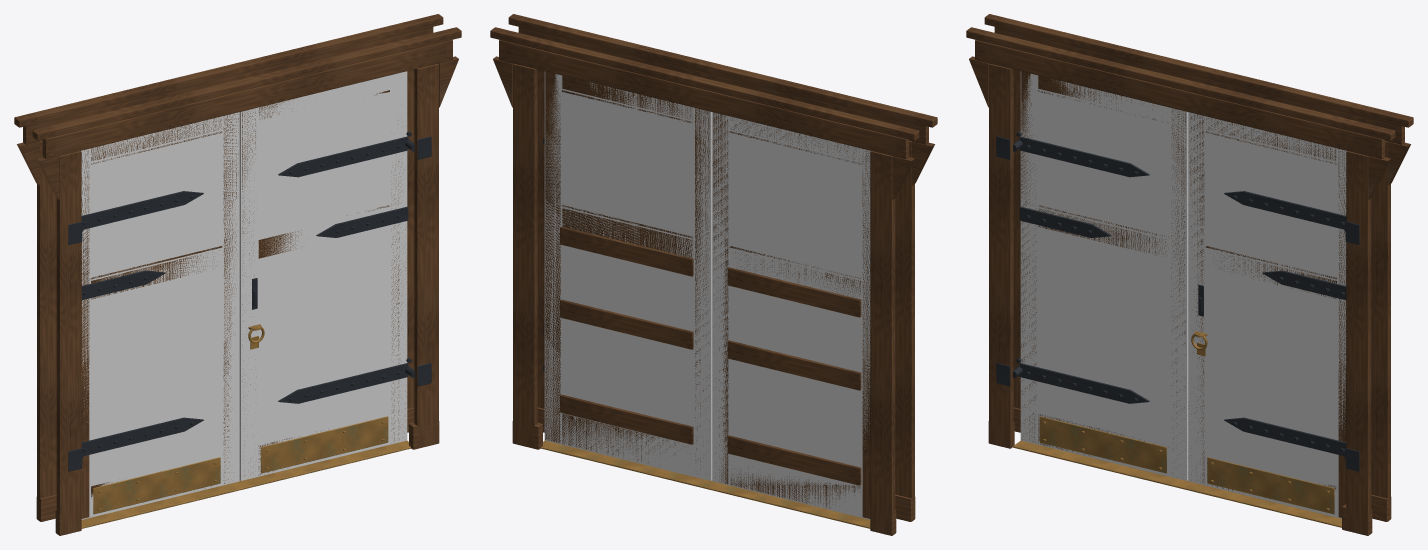
File: settlement_inn_door_main.gltf
The picture shows the model from 3 angles, left to right: view 1: azimuth 30°, elevation 25°; view 2: azimuth 150°, elevation 25°; view 3: azimuth 330°, elevation 25°; orthographic projection.
Visible parts, largest first — view 1: settlement_inn_door_main_leaf_r_col, settlement_inn_door_main_LOD0, settlement_inn_door_main_leaf_l_col, settlement_inn_door_main_leaf_l_LOD0, settlement_inn_door_main_leaf_r_LOD0; view 2: settlement_inn_door_main_LOD0, settlement_inn_door_main_leaf_r_col, settlement_inn_door_main_leaf_l_col, settlement_inn_door_main_leaf_r_LOD0, settlement_inn_door_main_leaf_l_LOD0; view 3: settlement_inn_door_main_leaf_l_col, settlement_inn_door_main_LOD0, settlement_inn_door_main_leaf_r_col, settlement_inn_door_main_leaf_r_LOD0, settlement_inn_door_main_leaf_l_LOD0.
Part boxes in pixels (x1,y1,x2,y2): settlement_inn_door_main_leaf_r_col: (239,71,407,480); settlement_inn_door_main_LOD0: (14,14,461,535); settlement_inn_door_main_leaf_l_col: (81,112,239,519); settlement_inn_door_main_leaf_l_LOD0: (81,114,238,518); settlement_inn_door_main_leaf_r_LOD0: (242,90,414,475); settlement_inn_door_main_LOD0: (490,14,937,535); settlement_inn_door_main_leaf_r_col: (544,71,712,480); settlement_inn_door_main_leaf_l_col: (712,112,870,519); settlement_inn_door_main_leaf_r_LOD0: (543,71,712,461); settlement_inn_door_main_leaf_l_LOD0: (713,112,870,518); settlement_inn_door_main_leaf_l_col: (1020,71,1188,480); settlement_inn_door_main_LOD0: (966,14,1413,535); settlement_inn_door_main_leaf_r_col: (1188,112,1346,518); settlement_inn_door_main_leaf_r_LOD0: (1189,113,1346,517); settlement_inn_door_main_leaf_l_LOD0: (1013,71,1188,474).
Size of what is drawn, in the model's own units: 3.04 by 2.79 by 0.297.
5 materials, 4 textured.
